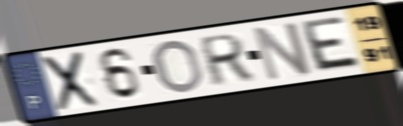6: (98, 47, 142, 102)
E: (300, 14, 365, 74)
N: (251, 20, 315, 84)
O: (152, 38, 207, 95)
R: (198, 31, 256, 89)
X: (40, 49, 101, 114)
